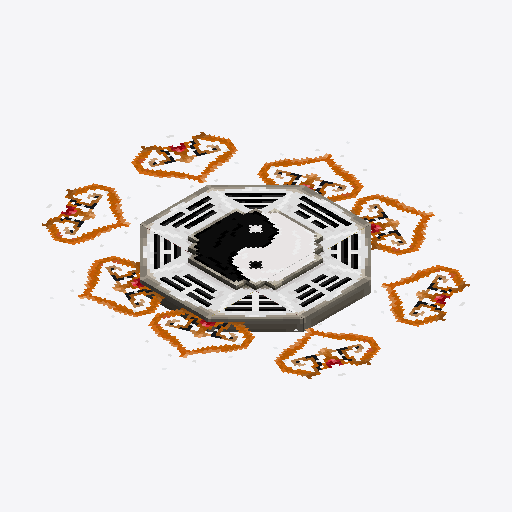
A Minecraft block model of 17 cuboids, rendered isometrically (azimuth 45°, elevation 35.3°) with the resource pack's own textures.
Parts seen in each view (by area): element 6, element 17, element 5, element 16, element 7, element 13, element 12, element 15, element 10, element 9, element 8, element 14 (+5 smaller).
Boxes of the visible parts, x1=… form: element 6: x1=140, y1=185, x2=370, y2=331; element 17: x1=140, y1=185, x2=370, y2=331; element 5: x1=188, y1=208, x2=322, y2=289; element 16: x1=208, y1=185, x2=302, y2=331; element 7: x1=140, y1=224, x2=370, y2=278; element 13: x1=374, y1=263, x2=469, y2=326; element 12: x1=131, y1=132, x2=238, y2=187; element 15: x1=42, y1=183, x2=137, y2=246; element 10: x1=273, y1=323, x2=380, y2=378; element 9: x1=145, y1=308, x2=254, y2=369; element 8: x1=50, y1=256, x2=164, y2=317; element 14: x1=350, y1=193, x2=462, y2=255.
Size of the model in its own units: 34 by 1.65 by 34.03.